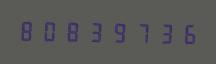eight: (17, 18, 38, 42), (61, 19, 82, 43)
nine: (105, 19, 126, 44)
seven: (127, 20, 148, 44)
six: (171, 21, 192, 45)
three: (149, 20, 170, 45), (83, 19, 104, 43)
zero: (39, 18, 60, 43)
